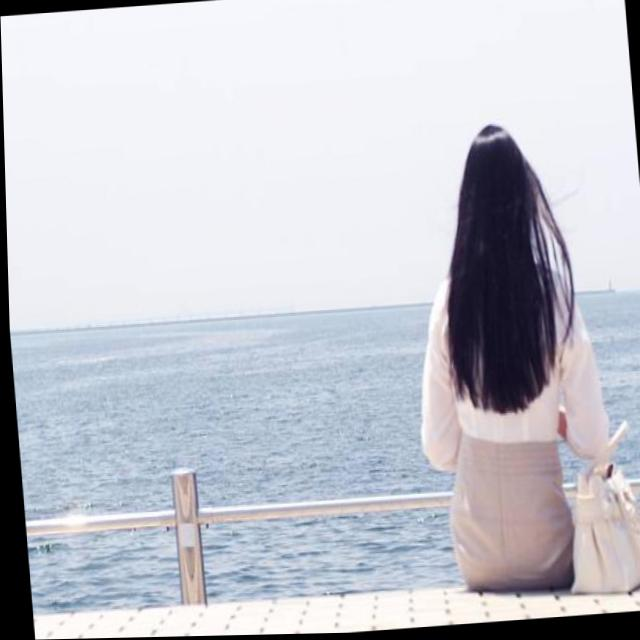no helmet: (423, 117, 576, 409)
